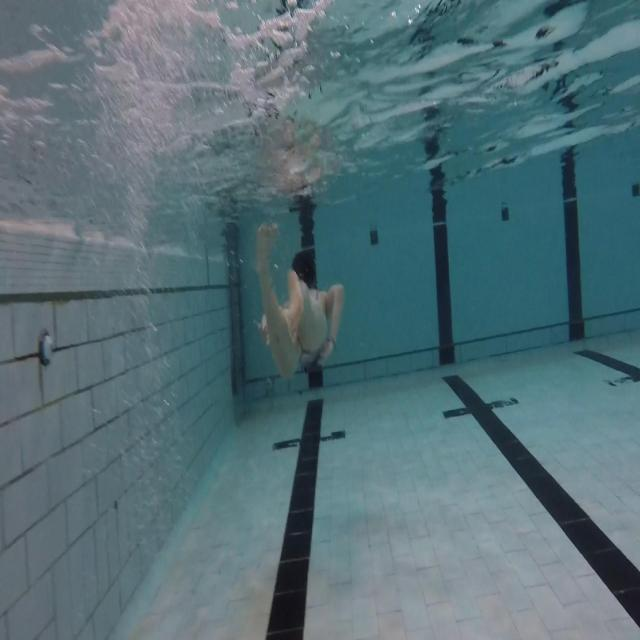human: (254, 190, 345, 379)
